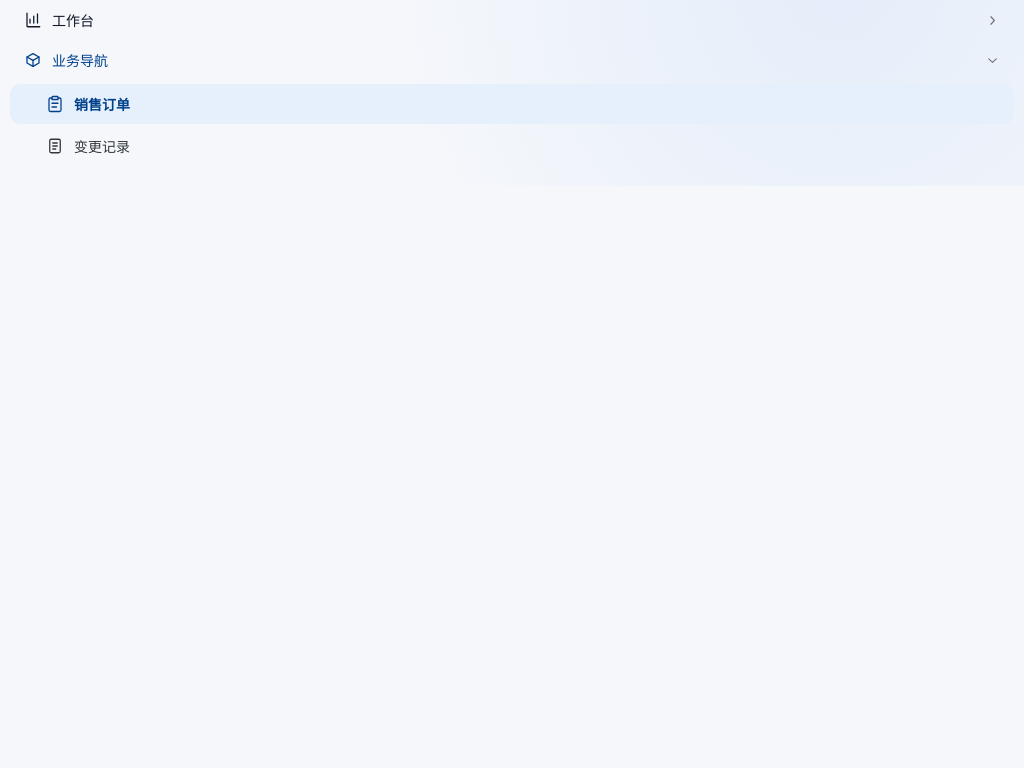
SidebarMenu › note 型入口点击弹出说明弹窗
The width and height of the screenshot is (1024, 768).
Click the button "变更记录". click: point(102, 146)
box: left=10, top=126, right=1014, bottom=166
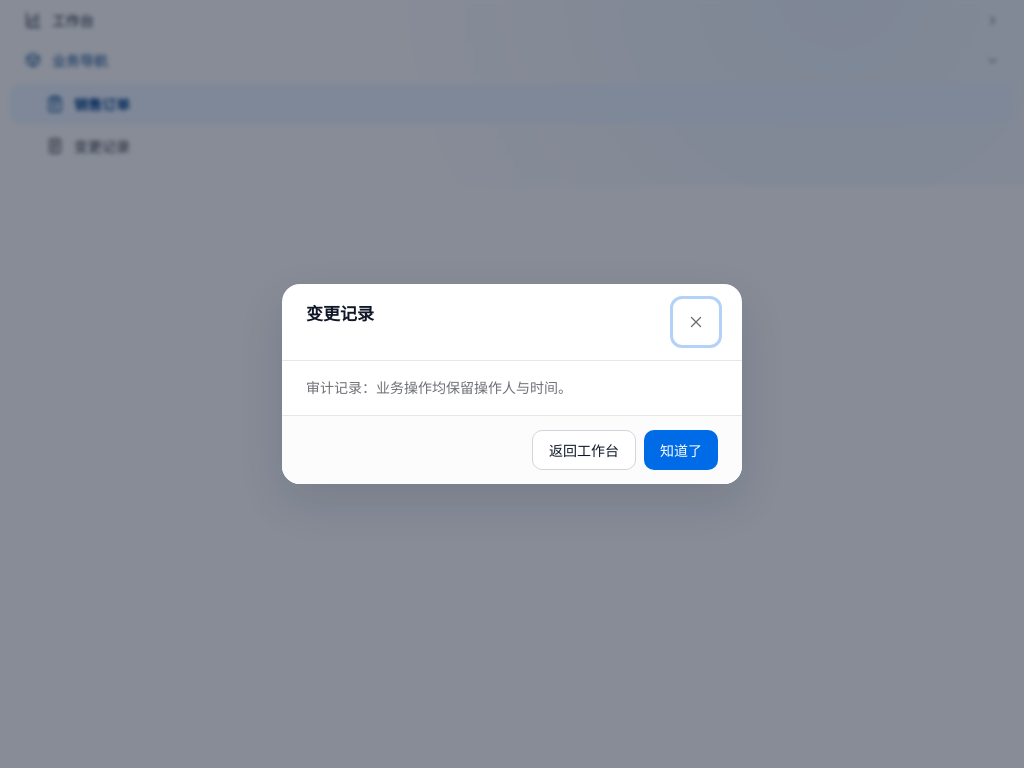
Expected: the text "审计记录：业务操作均保留操作人与时间。" is shown, left=306, top=379, right=572, bottom=396
